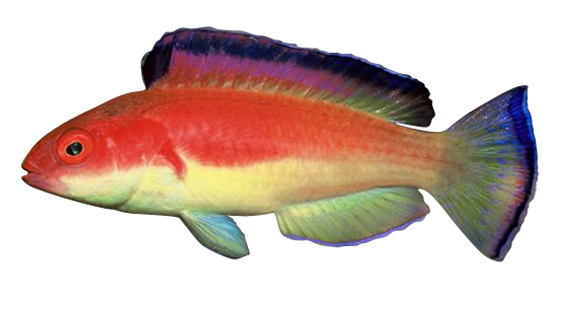fish: (21, 26, 539, 263)
